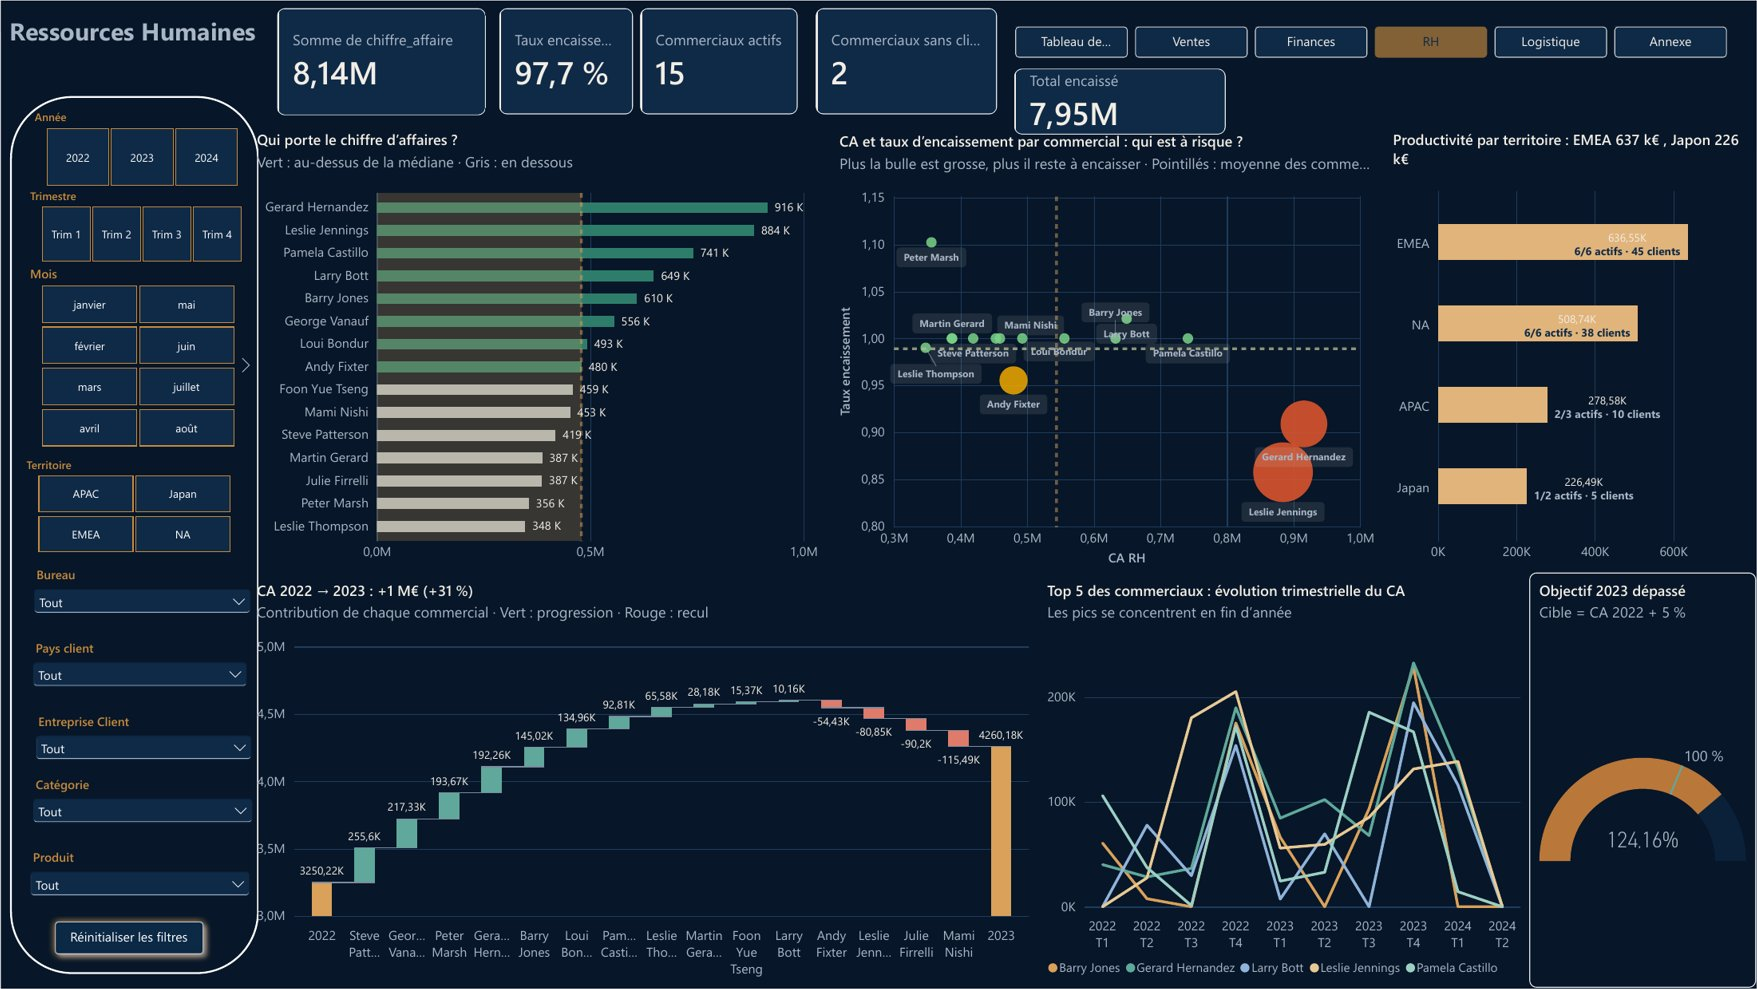

The dashboard page shown, as its layout file describes it:
{"tool":"powerbi","page":{"name":"RH","canvas":[1920,1080],"ordinal":3},"visuals":[{"type":"shape","box":[0,95.8,291.7,976.7],"z":0},{"type":"pageNavigator","box":[1098.6,20,800,50],"z":1000},{"type":"cardVisual","fields":{"Data":["_Measure_RH.Nb commerciaux actifs"]},"box":[688.9,0,191.7,131.5],"z":2000},{"type":"cardVisual","fields":{"Data":["_Measure_RH.Nb commerciaux sans client"]},"box":[880.7,0,218.5,131.5],"z":3000},{"type":"scatterChart","title":"CA et taux d’encaissement par commercial : qui est à risque ?","fields":{"Category":["dim_employee.full_name"],"Size":["_Measure_RH.Taille risque"],"X":["_Measure_RH.CA RH"],"Y":["_Measure_RH.Taux encaissement"]},"box":[906.7,134.9,605.5,491],"z":4000},{"type":"gauge","title":"Objectif 2023 dépassé ","fields":{"MaxValue":["_Measure_RH.Max jauge"],"TargetValue":["_Measure_RH.Cible 100"],"Y":["_Measure_RH.Atteinte objectif"]},"box":[1670.7,625.4,247.8,453.4],"z":5000},{"type":"cardVisual","fields":{"Data":["_Measure_RH.Taux encaissement"]},"box":[535.1,0,166,132],"z":6000},{"type":"waterfallChart","title":"CA 2022 → 2023 : +1 M€ (+31 %)","fields":{"Breakdown":["dim_employee.full_name"],"Category":["dim_date.Année"],"Y":["_Measure_RH.CA RH"]},"box":[269.8,625.9,864.3,453.3],"z":7000},{"type":"barChart","title":"Productivité par territoire : EMEA 637 k€ , Japon 226 k€","fields":{"Category":["dim_employee.officeTerritory"],"Y":["_Measure_RH.CA par commercial"]},"box":[1512.2,133.3,407.8,492.5],"z":8000},{"type":"clusteredBarChart","title":"Qui porte le chiffre d’affaires ?","fields":{"Category":["dim_employee.full_name"],"Y":["Sum(fait_ventes.chiffre_affaire)"]},"box":[269.8,133.3,636.9,492.5],"z":9000},{"type":"cardVisual","title":"CA net","fields":{"Data":["Sum(fait_ventes.chiffre_affaire)"]},"box":[292.1,0,248,132.8],"z":10000},{"type":"lineChart","title":"Top 5 des commerciaux : évolution trimestrielle du CA","fields":{"Category":["dim_date.Trimestre"],"Series":["dim_employee.full_name"],"Y":["_Measure_RH.CA affiche"]},"box":[1134.1,625.9,539.6,453.3],"z":11000},{"type":"textbox","box":[0,6.8,300,64.4],"z":12000},{"type":"slicer","fields":{"Values":["dim_employee.officeTerritory"]},"box":[10.1,490.9,269.8,122.5],"z":13000},{"type":"slicer","fields":{"Values":["dim_date.date.Variation.Hiérarchie de dates.Année"]},"box":[19.3,111.4,268.9,100.4],"z":15000},{"type":"actionButton","title":"Réinitialiser les filtres","box":[39.6,990.1,200.1,68.7],"z":16000},{"type":"slicer","fields":{"Values":["dim_date.date.Variation.Hiérarchie de dates.Mois"]},"box":[13.8,281.8,269.8,215.5],"z":18000},{"type":"slicer","fields":{"Values":["dim_date.date.Variation.Hiérarchie de dates.Trimestre"]},"box":[14.2,196.6,277.9,98.3],"z":22001},{"type":"slicer","fields":{"Values":["dim_employee.officeCity"]},"box":[21.4,611.4,266.2,80.1],"z":22002},{"type":"slicer","fields":{"Values":["dim_customers.country"]},"box":[20,691.4,264.3,80.1],"z":22003},{"type":"slicer","fields":{"Values":["dim_produit.productLine"]},"box":[20,840,269.8,80.1],"z":22004},{"type":"slicer","fields":{"Values":["dim_produit.productName"]},"box":[17.1,920,269.8,80.1],"z":22005},{"type":"slicer","fields":{"Values":["dim_customers.CustomerName"]},"box":[22.9,771.4,266.2,83.8],"z":22006},{"type":"cardVisual","fields":{"Data":["_Measure_RH.Total encaisse"]},"box":[1098.4,66,251,88],"z":22007}]}

Visuals, with their boxes in screenshot pixels (x1, y1, x2, y2), scaled from the page's 1920x1080 canvas onto the 1757x989 screenshot:
shape: bbox(0, 88, 267, 982)
pageNavigator: bbox(1005, 18, 1737, 64)
cardVisual - _Measure_RH.Nb commerciaux actifs: bbox(630, 0, 806, 120)
cardVisual - _Measure_RH.Nb commerciaux sans client: bbox(806, 0, 1006, 120)
"CA et taux d’encaissement par commercial : qui est à risque ?" scatterChart: bbox(830, 124, 1384, 573)
"Objectif 2023 dépassé " gauge: bbox(1529, 573, 1756, 988)
cardVisual - _Measure_RH.Taux encaissement: bbox(490, 0, 642, 121)
"CA 2022 → 2023 : +1 M€ (+31 %)" waterfallChart: bbox(247, 573, 1038, 988)
"Productivité par territoire : EMEA 637 k€ , Japon 226 k€" barChart: bbox(1384, 122, 1756, 573)
"Qui porte le chiffre d’affaires ?" clusteredBarChart: bbox(247, 122, 830, 573)
"CA net" cardVisual: bbox(267, 0, 494, 122)
"Top 5 des commerciaux : évolution trimestrielle du CA" lineChart: bbox(1038, 573, 1532, 988)
textbox: bbox(0, 6, 275, 65)
slicer - dim_employee.officeTerritory: bbox(9, 450, 256, 562)
slicer - dim_date.date.Variation.Hiérarchie de dates.Année: bbox(18, 102, 264, 194)
"Réinitialiser les filtres" actionButton: bbox(36, 907, 219, 970)
slicer - dim_date.date.Variation.Hiérarchie de dates.Mois: bbox(13, 258, 260, 455)
slicer - dim_date.date.Variation.Hiérarchie de dates.Trimestre: bbox(13, 180, 267, 270)
slicer - dim_employee.officeCity: bbox(20, 560, 263, 633)
slicer - dim_customers.country: bbox(18, 633, 260, 706)
slicer - dim_produit.productLine: bbox(18, 769, 265, 843)
slicer - dim_produit.productName: bbox(16, 842, 263, 916)
slicer - dim_customers.CustomerName: bbox(21, 706, 265, 783)
cardVisual - _Measure_RH.Total encaisse: bbox(1005, 60, 1235, 141)
